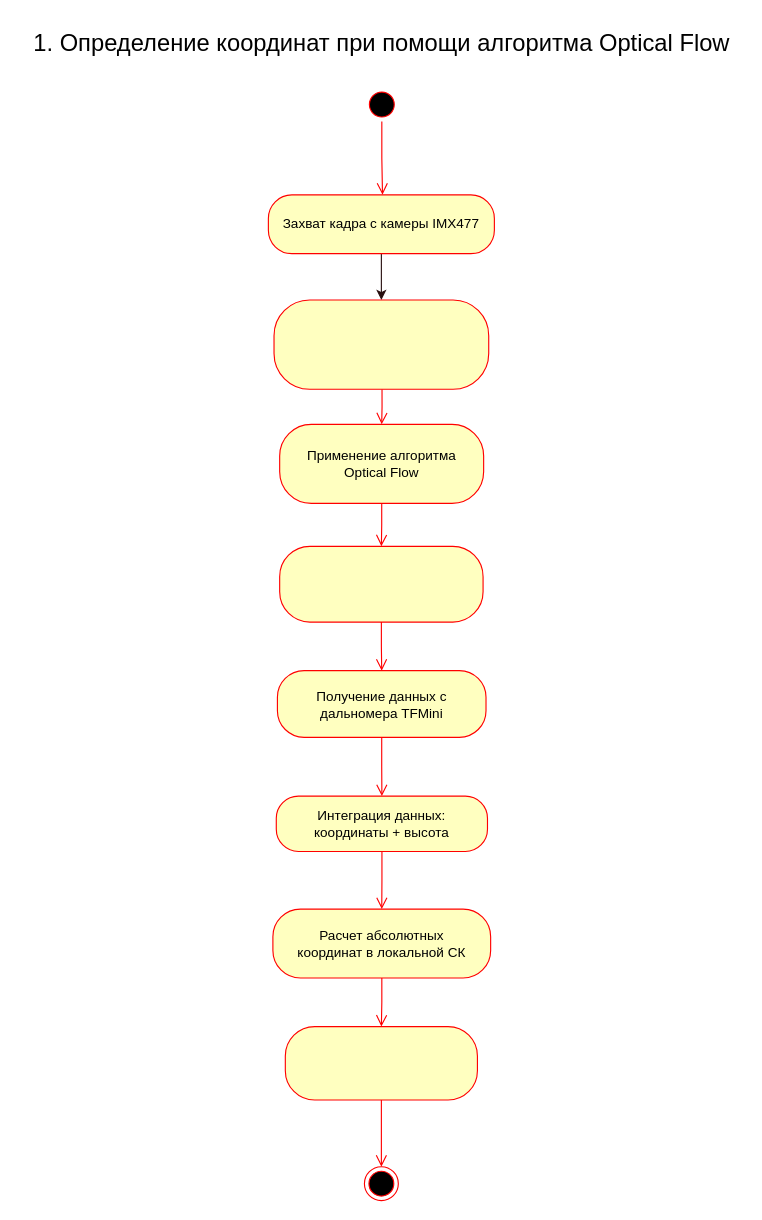
This 762x1220 diagram has some shape labels left out. The shapes that lost their labels are listed below. From the top down, each one's centre as x and y in pixels, then its label:
At [381,344]: "Предобработка изображения фильтрация шума, нормализация".
At [381,583]: "Расчет относительного смещения по осям X, Y".
At [380,1062]: "Отправка координат в систему управления".
